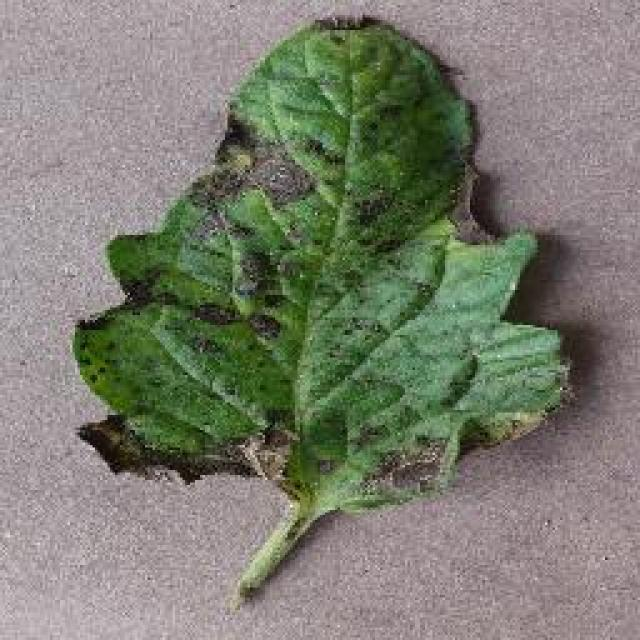Tomato Early blight leaf: (67, 13, 575, 512)
